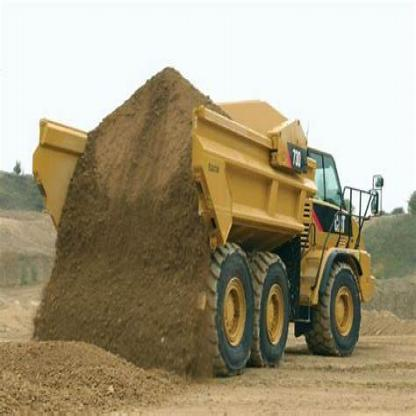dump_truck: (19, 55, 382, 382)
